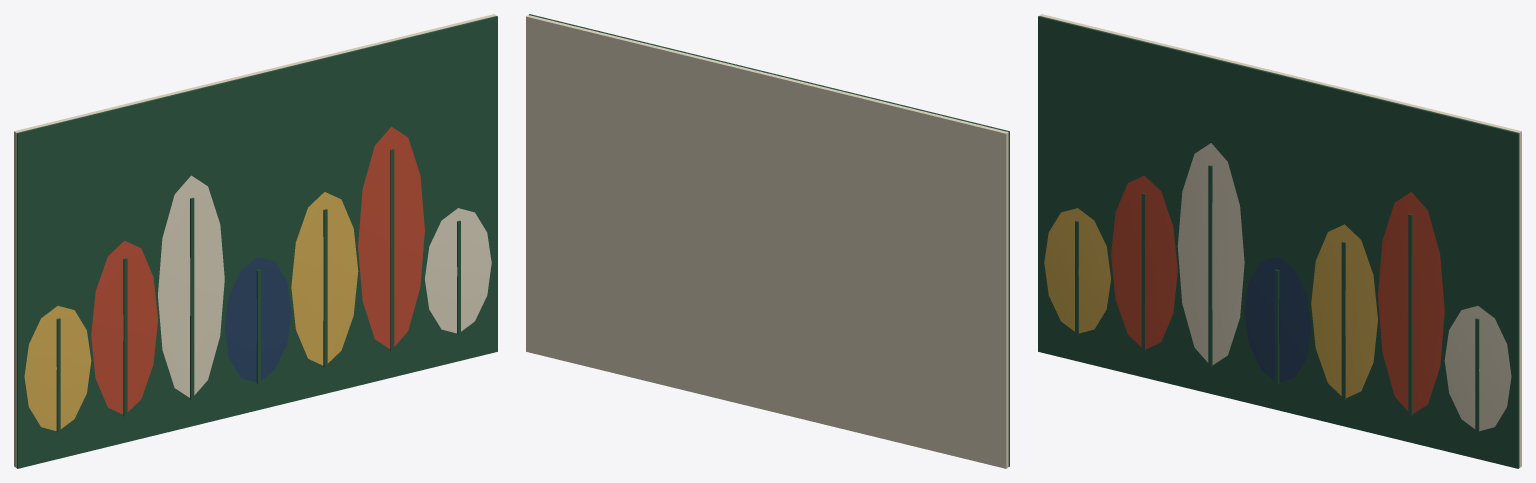
Rendered from lod_mural_leaves.glb.
3 renders of one model, left to right at view 1: azimuth 30°, elevation 25°; view 2: azimuth 150°, elevation 25°; view 3: azimuth 330°, elevation 25°, orthographic.
Parts seen in each view (by area): view 1: mural_leaves; view 2: mural_leaves; view 3: mural_leaves.
Part boxes in pixels (x1,y1,x2,y2): mural_leaves: [14, 14, 497, 468]; mural_leaves: [526, 14, 1009, 468]; mural_leaves: [1038, 14, 1521, 468].
Bounding box in the file's own units: 3.6 × 2.4 × 0.066.
